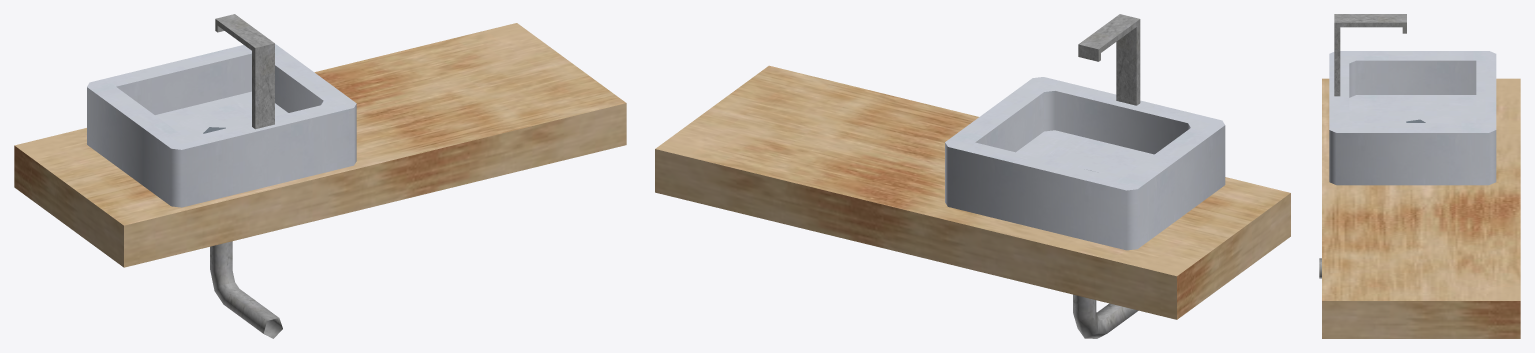
Rendered from Washbasin_05.glb.
The picture shows the model from 3 angles, left to right: view 1: azimuth 30°, elevation 25°; view 2: azimuth 150°, elevation 25°; view 3: azimuth 270°, elevation 25°; orthographic projection. The views are drawn at different scales.
Visible parts, largest first — view 1: Washbasin_05; view 2: Washbasin_05; view 3: Washbasin_05.
Boxes of the visible parts, bbox=[...] form: Washbasin_05: bbox=[14, 14, 626, 338]; Washbasin_05: bbox=[655, 14, 1290, 338]; Washbasin_05: bbox=[1319, 14, 1520, 338].
Bounding box in the file's own units: 1.27 × 0.6924 × 0.485.
4 materials, 4 textured.
